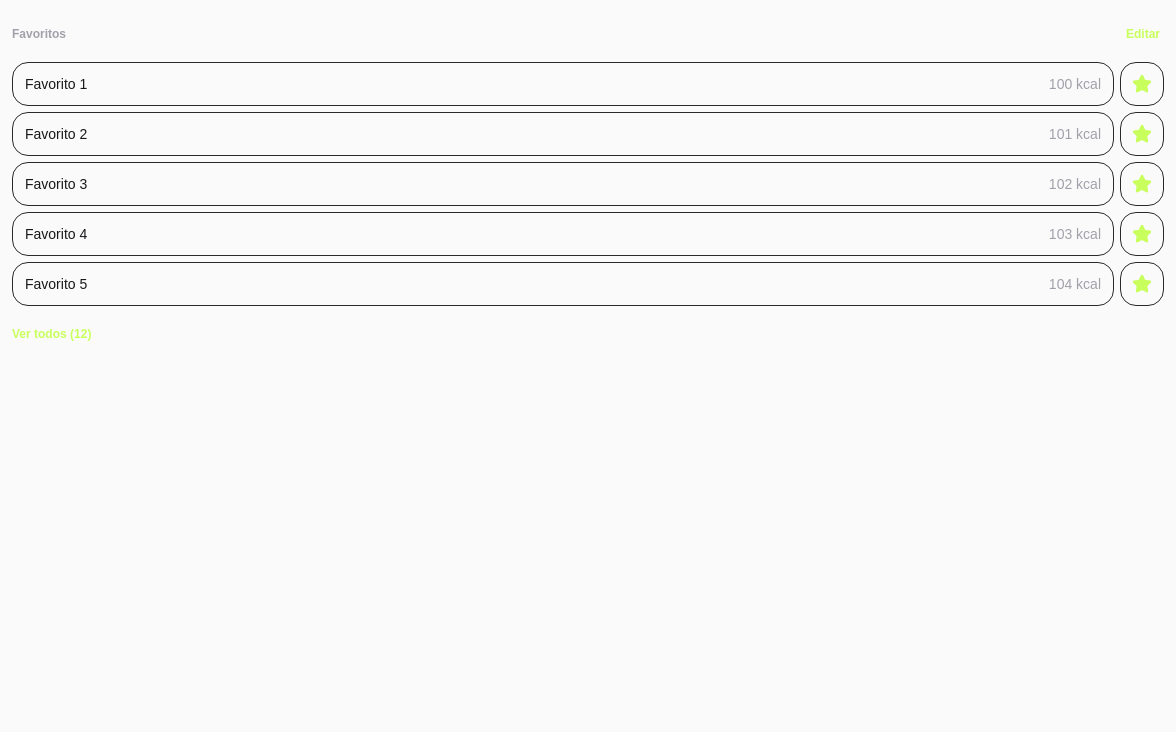
«Editar»: lista completa y lápices (R4, R12) › «Editar» pasa a «Listo» y abre la lista completa
Click the button "Editar" at [1143, 34], box [1122,12,1164,56]
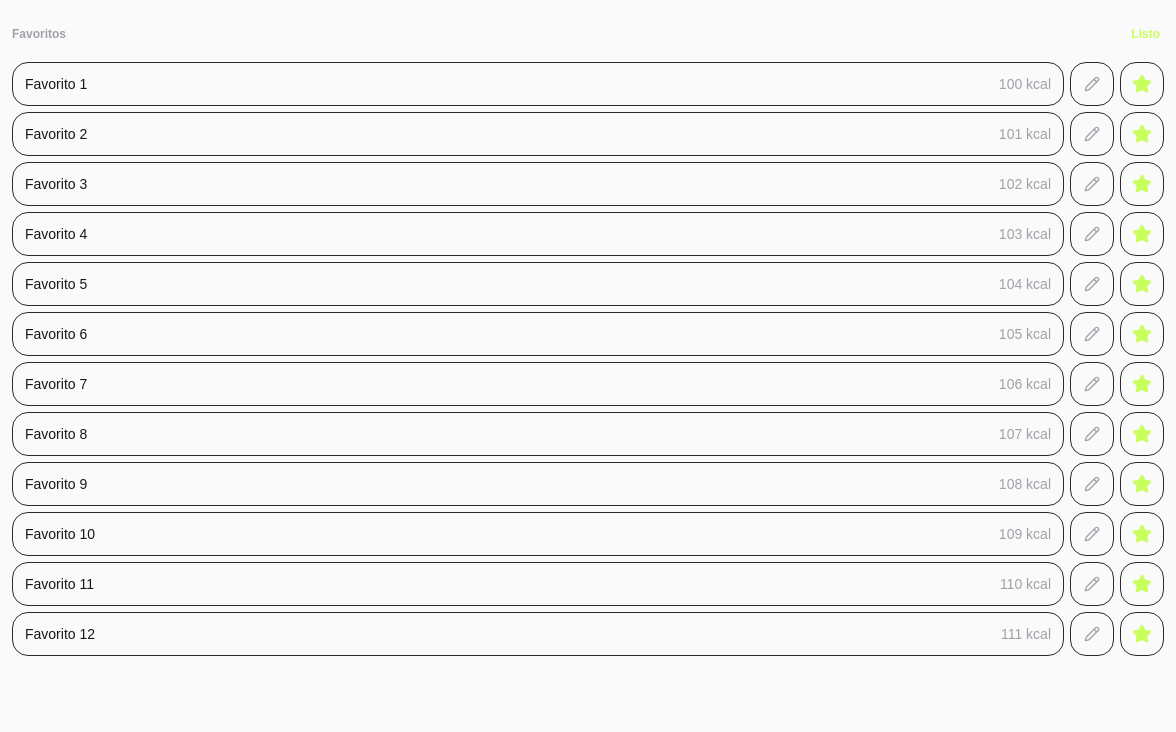
Check: the button "Listo" is shown
Click the button "Listo" at [1146, 34], box [1127,12,1164,56]
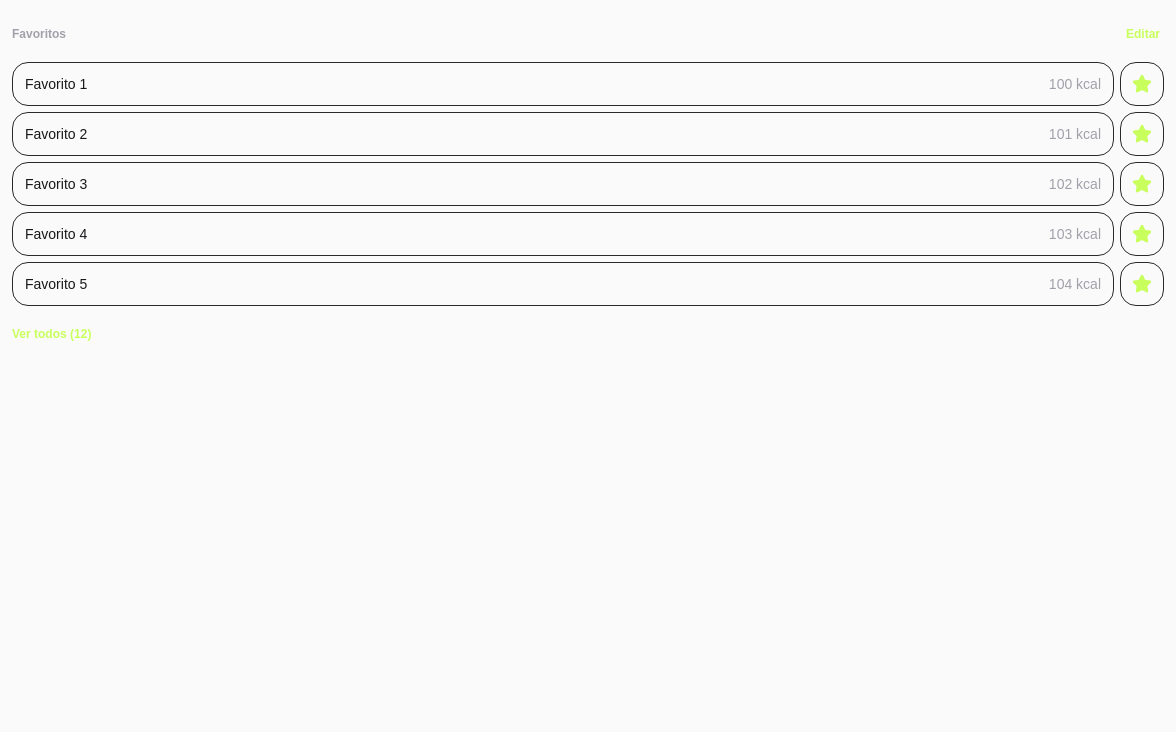
Check: the button "Editar" is shown, box [1122,12,1164,56]
